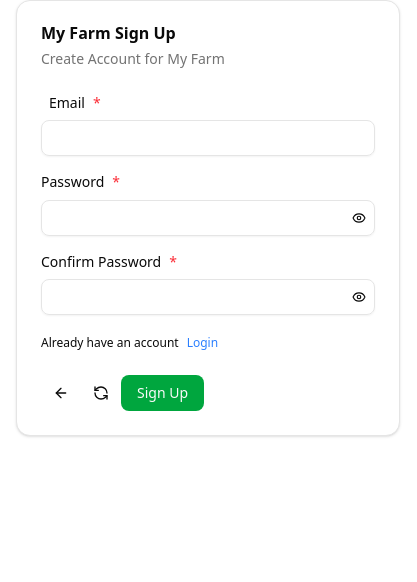
Test: Reg Form Tests › CreateUserAction Success
Type "test@test.com" into the field labelled "Email *".
click(208, 138); type("test@test.com")  # box [41,120,375,156]
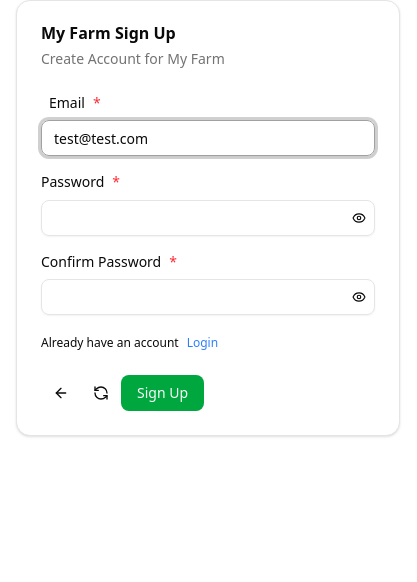
Type "Test1test" into the password field labelled "Password *".
click(193, 218); type("Test1test")  # box [42,200,344,236]
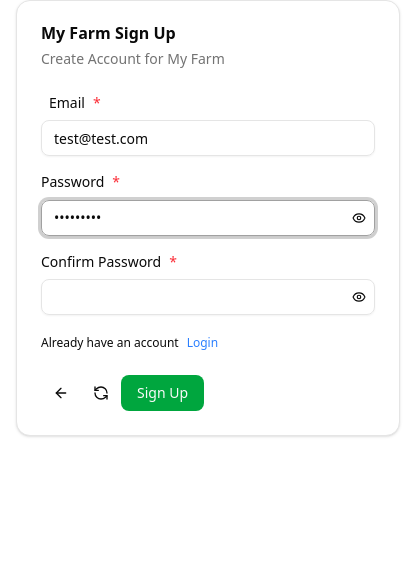
Type "Test1test" into the password field labelled "Confirm Password *".
click(193, 297); type("Test1test")  # box [42,279,344,315]
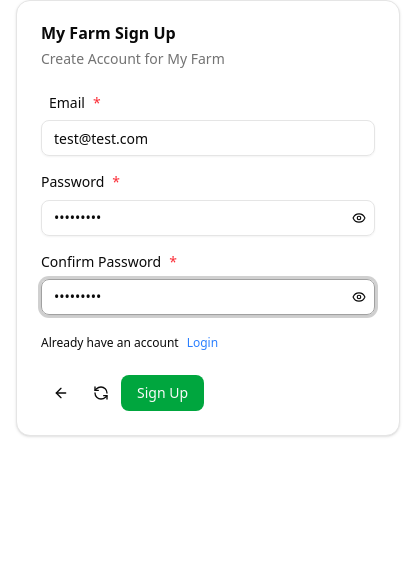
Click the button "Sign Up".
click(162, 393)  # box [121,375,204,411]
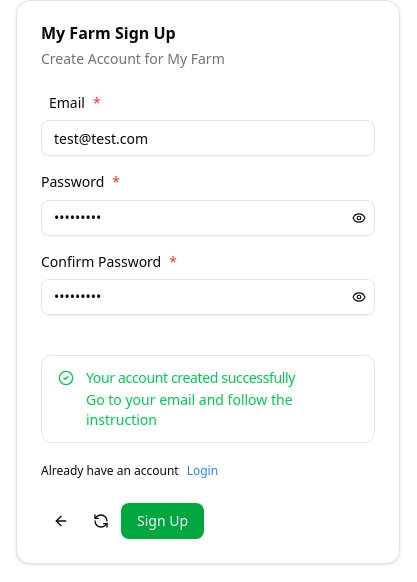
Result: the heading "Your account created successfully" is shown at [86,368,295,387]
Result: the text "Go to your email and follow the instruction" is shown at [86,390,293,429]
